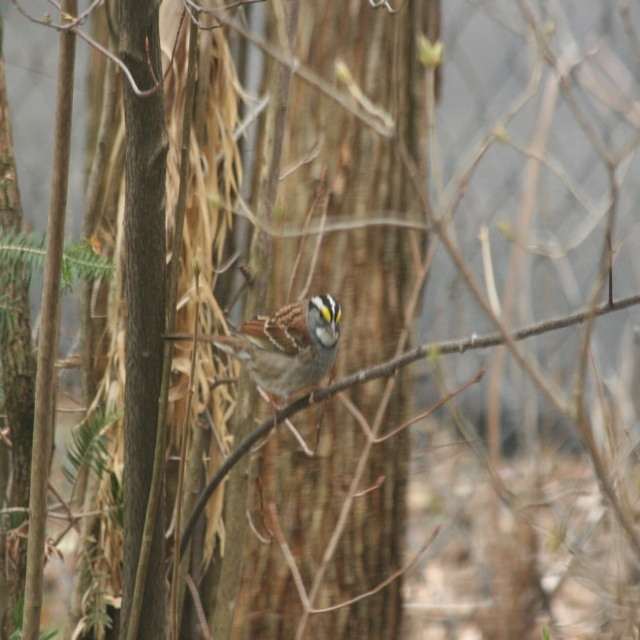Sparrow: (211, 292, 344, 408)
